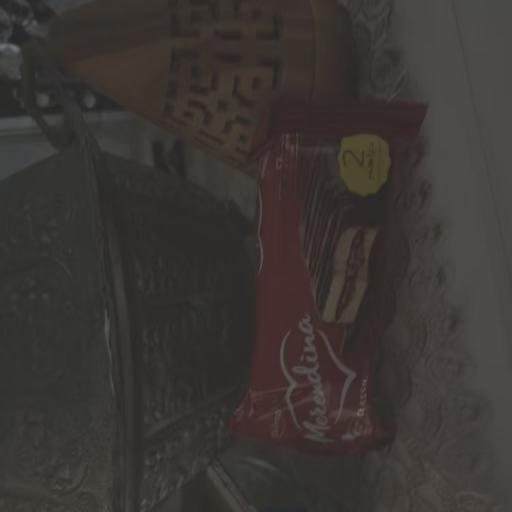merendina: (225, 78, 435, 460)
